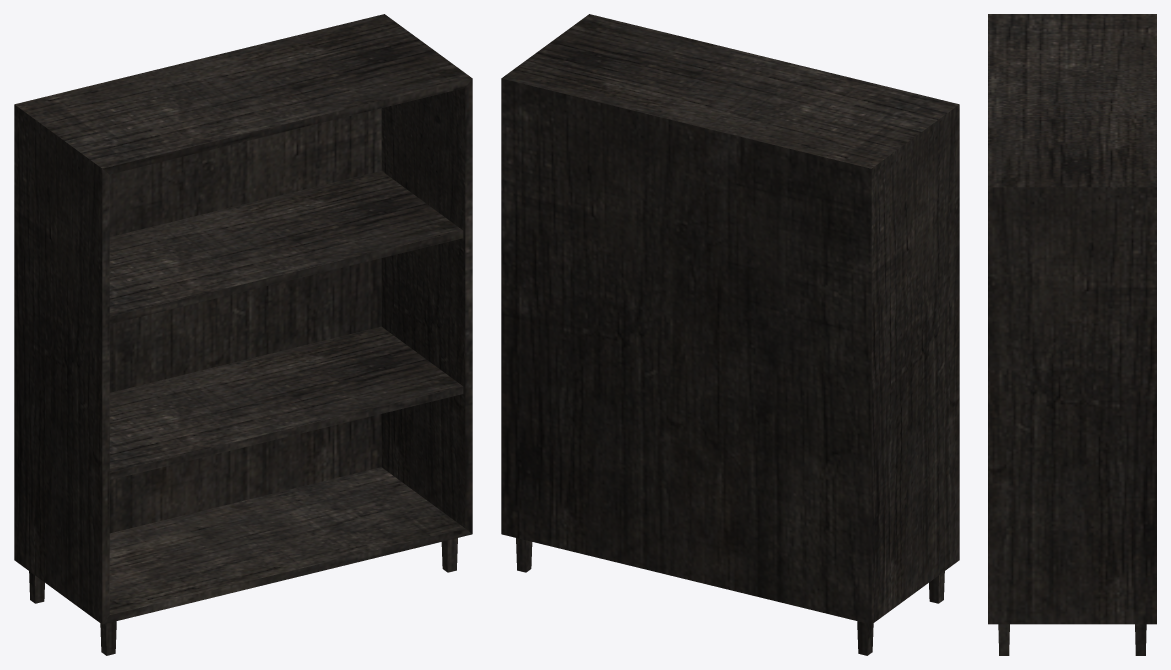
Rendered from shelf_mp_3.obj.
The picture shows the model from 3 angles, left to right: view 1: azimuth 30°, elevation 25°; view 2: azimuth 150°, elevation 25°; view 3: azimuth 270°, elevation 25°; orthographic projection. The views are drawn at different scales.
Parts seen in each view (by area): view 1: shelf_mp_3; view 2: shelf_mp_3; view 3: shelf_mp_3.
Boxes of the visible parts, x1,y1,x2,y2 form: shelf_mp_3: (14, 14, 472, 655); shelf_mp_3: (501, 14, 959, 655); shelf_mp_3: (988, 14, 1156, 655).
Size of the model in its own units: 1.02 by 1.3 by 0.42.
